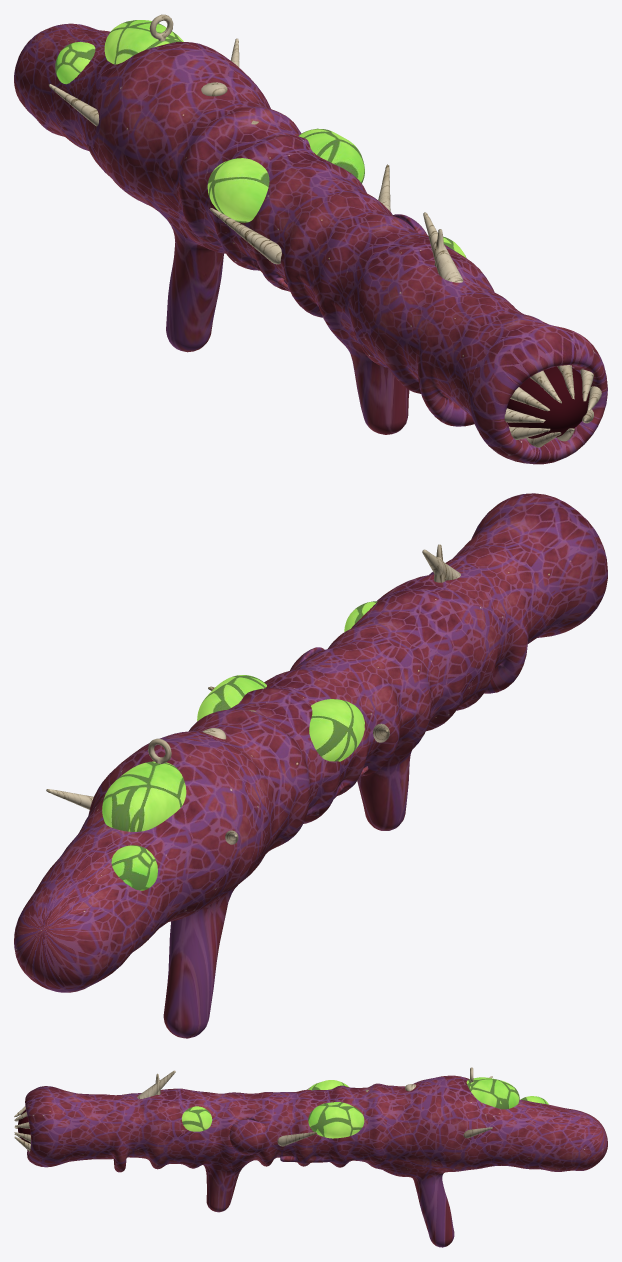
File: gun_bio_spitter.glb
3 views of the same model, one above another, from view 1: azimuth 30°, elevation 25°; view 2: azimuth 150°, elevation 25°; view 3: azimuth 270°, elevation 25° (orthographic). The views are drawn at different scales.
Visible parts, largest first — view 1: gun_bio_spitter; view 2: gun_bio_spitter; view 3: gun_bio_spitter, hatch.
Part boxes in pixels (x1,y1,x2,y2): gun_bio_spitter: (14,14,607,464); gun_bio_spitter: (14,493,607,1038); gun_bio_spitter: (14,1067,607,1247); hatch: (229,1119,266,1155).
Size of the model in its own units: 0.1827 by 0.2907 by 0.8794.
5 materials, 4 textured.
